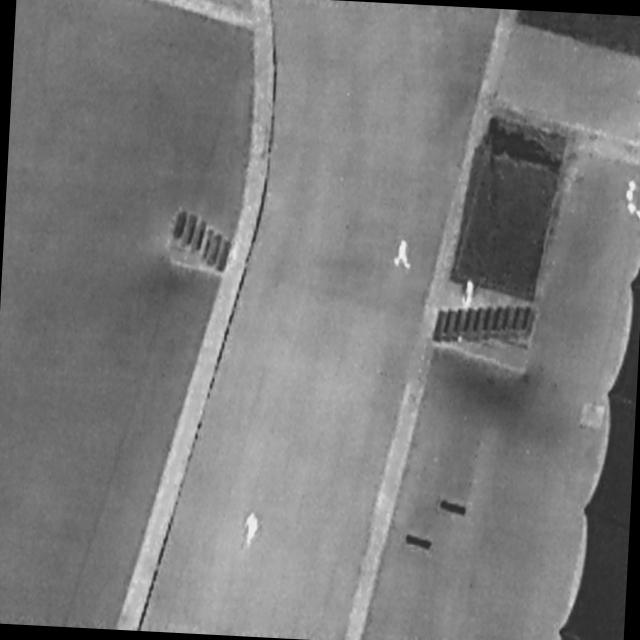person: (241, 508, 262, 553), (394, 239, 412, 272), (464, 281, 477, 312)
